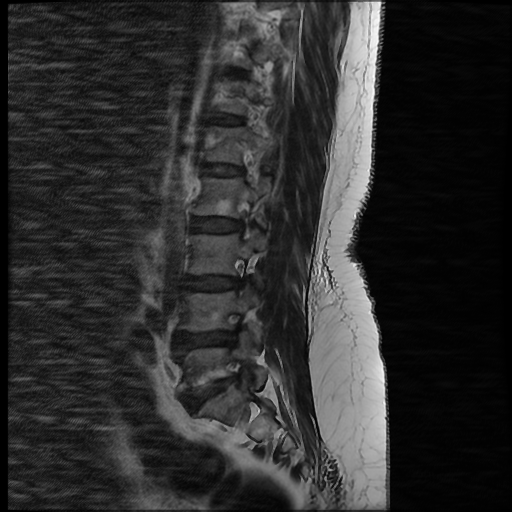RFS0: (227, 196, 258, 245)
RFS1: (222, 251, 254, 297)
